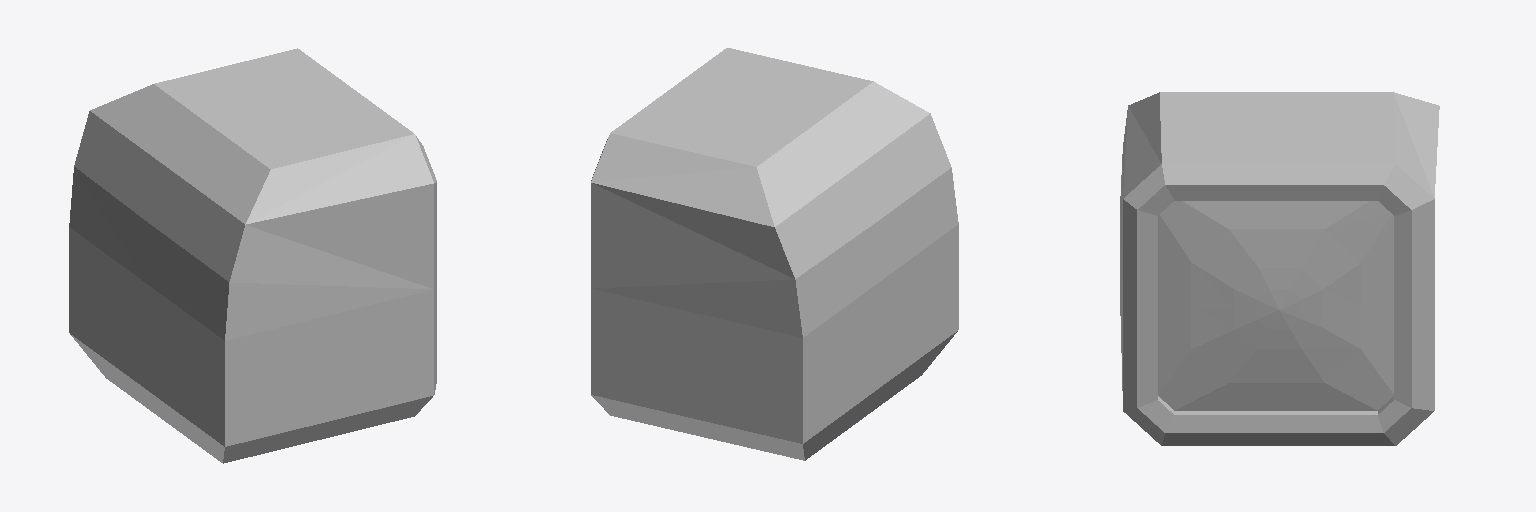
Rendered from television.obj.
3 renders of one model, left to right at view 1: azimuth 30°, elevation 25°; view 2: azimuth 150°, elevation 25°; view 3: azimuth 270°, elevation 25°, orthographic.
Parts seen in each view (by area): view 1: Cube; view 2: Cube; view 3: Cube.
Part boxes in pixels (x1,y1,x2,y2): Cube: (69,48,436,463); Cube: (591,48,958,460); Cube: (1120,92,1439,445).
Size of the model in its own units: 0.5915 by 0.7217 by 0.738.